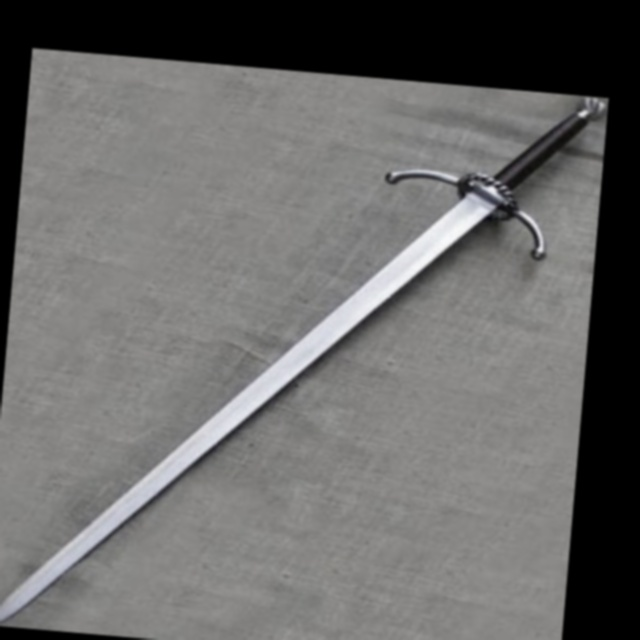Sharp-Object: (0, 94, 578, 640)
